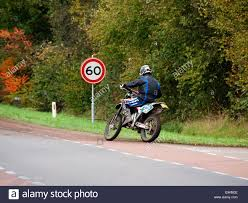Speed_limit_60km: (79, 56, 106, 84)
